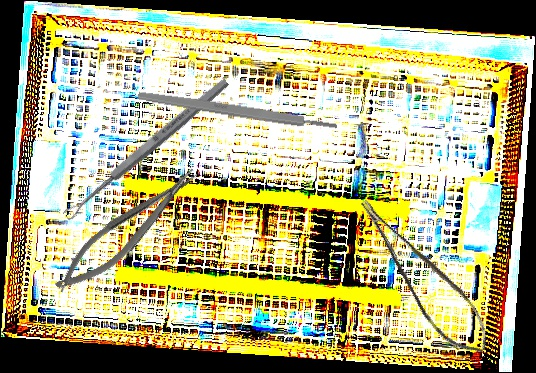Micro Scissor: (355, 180, 498, 368)
Needle Holder: (45, 161, 210, 302)
Scalpel Handle: (137, 89, 338, 133)
Surgical Spoon: (61, 76, 231, 222)
